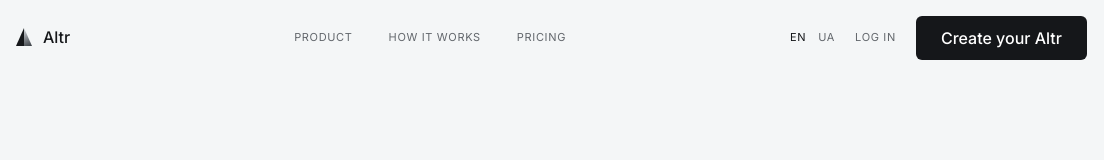
Test: Header › switches language for both the desktop bar and the mobile menu
Click the button "UA" at point(827, 38), box x1=818 y1=30 x2=835 y2=46
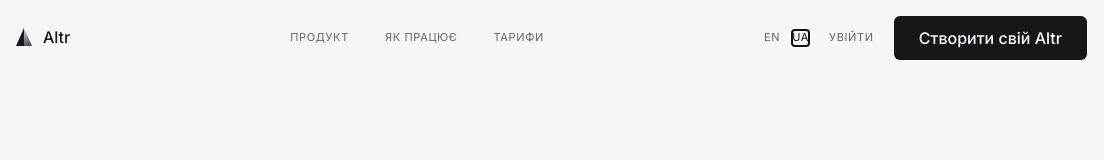
Now the link "Тарифи" is shown, box x1=494 y1=30 x2=544 y2=46
